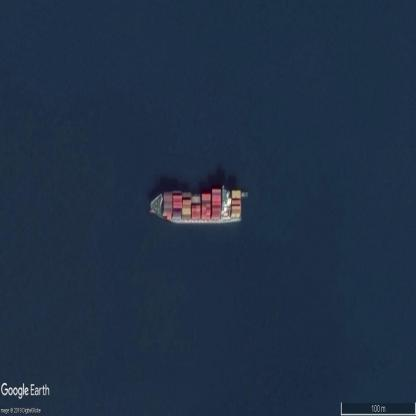ship: (148, 190, 242, 224)
